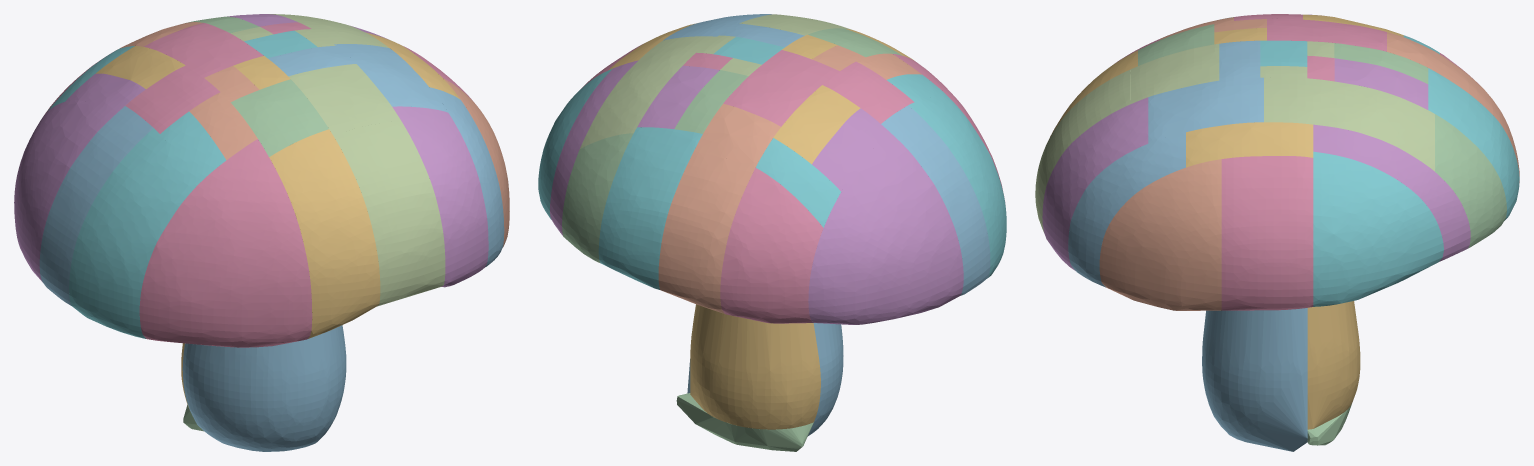
File: ingredients_collision.glb
3 views of the same model, side by side, from view 1: azimuth 30°, elevation 25°; view 2: azimuth 150°, elevation 25°; view 3: azimuth 270°, elevation 25° (orthographic). The views are drawn at different scales.
Parts seen in each view (by area): view 1: world; view 2: world; view 3: world.
Boxes of the visible parts, x1,y1,x2,y2 form: world: (14,14,509,451); world: (538,14,1006,451); world: (1035,14,1519,451).
Bounding box in the file's own units: 0.0931 × 0.0804 × 0.0927.
